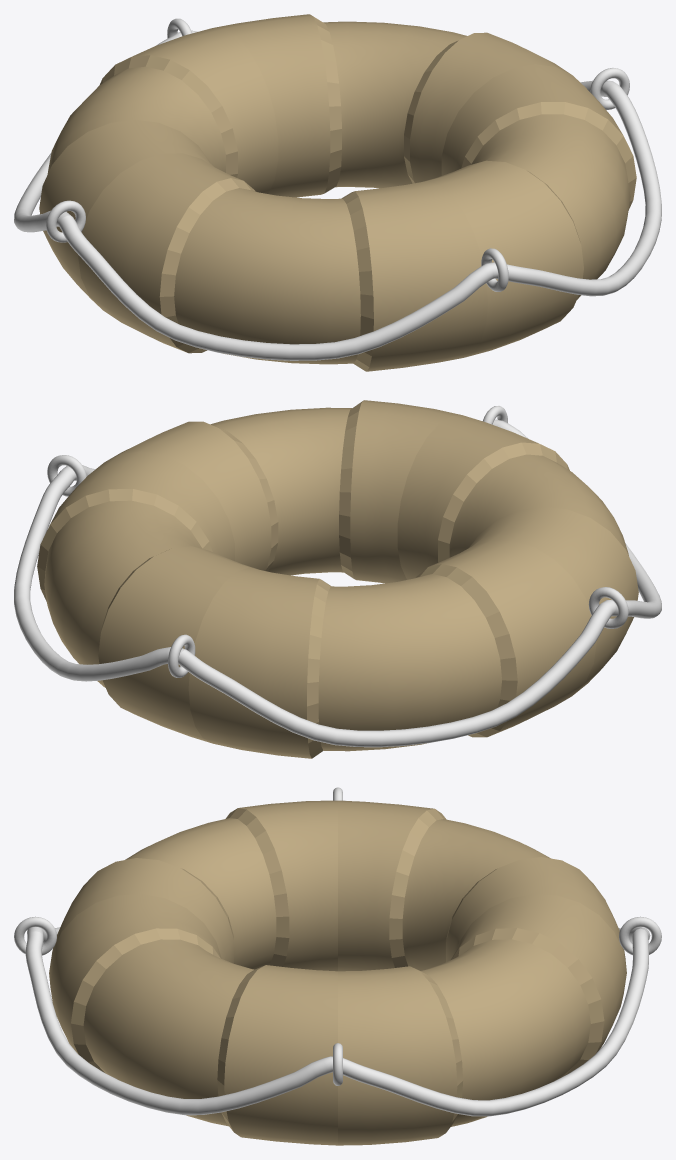
Rendered from Life_Buoy.fbx.
3 views of the same model, one above another, from view 1: azimuth 30°, elevation 25°; view 2: azimuth 150°, elevation 25°; view 3: azimuth 270°, elevation 25° (orthographic). The views are drawn at different scales.
Parts seen in each view (by area): view 1: Torus002, Torus001, Torus004, Torus003, Rope03, Rope00, Rope02, Ring02, Ring00, Ring03; view 2: Torus003, Torus004, Torus001, Torus002, Rope02, Rope01, Rope03, Ring02, Ring00, Ring01; view 3: Torus001, Torus004, Torus003, Torus002, Rope01, Rope00, Ring03, Ring01.
Part boxes in pixels (<box>): Torus002: <box>78,153,487,371</box>; Torus001: <box>422,64,636,357</box>; Torus004: <box>214,14,571,197</box>; Torus003: <box>39,28,278,307</box>; Rope03: <box>58,215,498,360</box>; Rope00: <box>495,80,661,296</box>; Rope02: <box>14,33,180,232</box>; Ring02: <box>46,200,85,242</box>; Ring00: <box>590,68,629,109</box>; Ring03: <box>481,248,508,291</box>; Torus003: <box>188,540,596,758</box>; Torus004: <box>37,451,258,743</box>; Torus001: <box>106,400,462,583</box>; Torus002: <box>397,415,638,695</box>; Rope02: <box>178,600,615,747</box>; Rope01: <box>14,470,185,681</box>; Rope03: <box>492,419,661,618</box>; Ring02: <box>588,587,628,628</box>; Ring00: <box>47,455,86,496</box>; Ring01: <box>168,634,195,677</box>; Torus001: <box>49,894,337,1145</box>; Torus004: <box>338,894,626,1145</box>; Torus003: <box>338,800,626,971</box>; Torus002: <box>52,800,337,971</box>; Rope01: <box>343,928,648,1116</box>; Rope00: <box>25,931,332,1115</box>; Ring03: <box>14,916,56,955</box>; Ring01: <box>619,916,661,955</box>.
Size of the model in its own units: 40 by 10.77 by 40.
